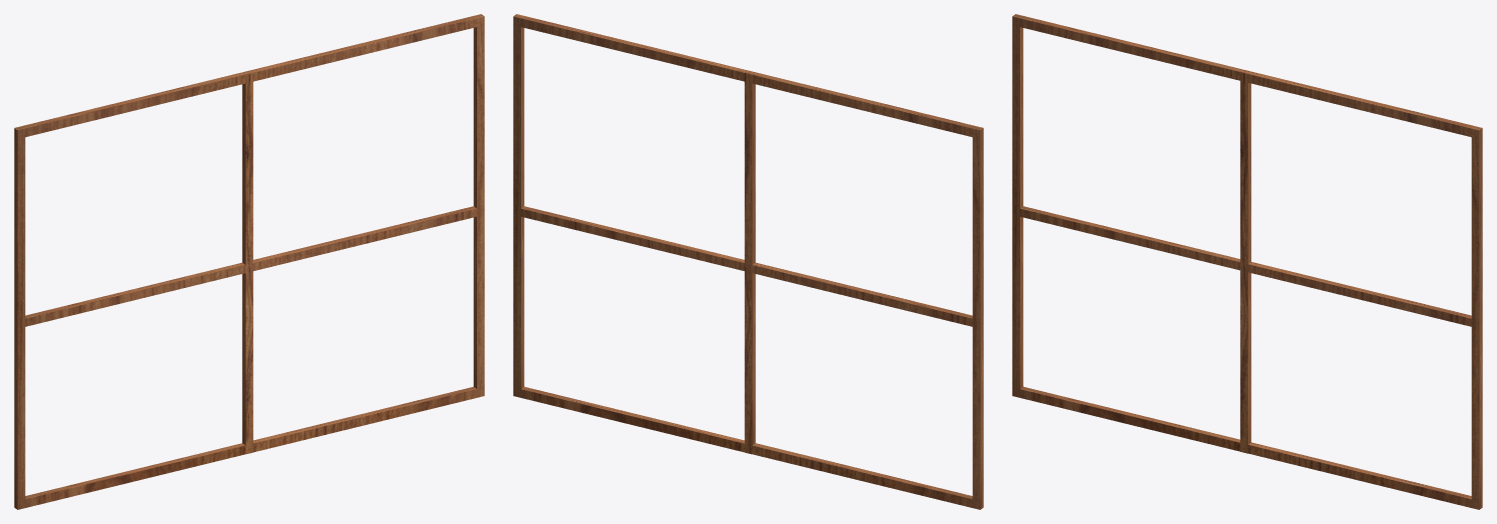
The model's file is Normal_SH_Half_Colonial.obj.
3 views of the same model, side by side, from view 1: azimuth 30°, elevation 25°; view 2: azimuth 150°, elevation 25°; view 3: azimuth 330°, elevation 25° (orthographic).
Visible parts, largest first — view 1: SH_Half_Colonial; view 2: SH_Half_Colonial; view 3: SH_Half_Colonial.
Boxes of the visible parts, <box> form: SH_Half_Colonial: <box>14,14,484,509</box>; SH_Half_Colonial: <box>513,14,983,509</box>; SH_Half_Colonial: <box>1012,14,1482,509</box>.
Size of the model in its own units: 8.47 by 6.58 by 0.1062.
1 material, 1 textured.
